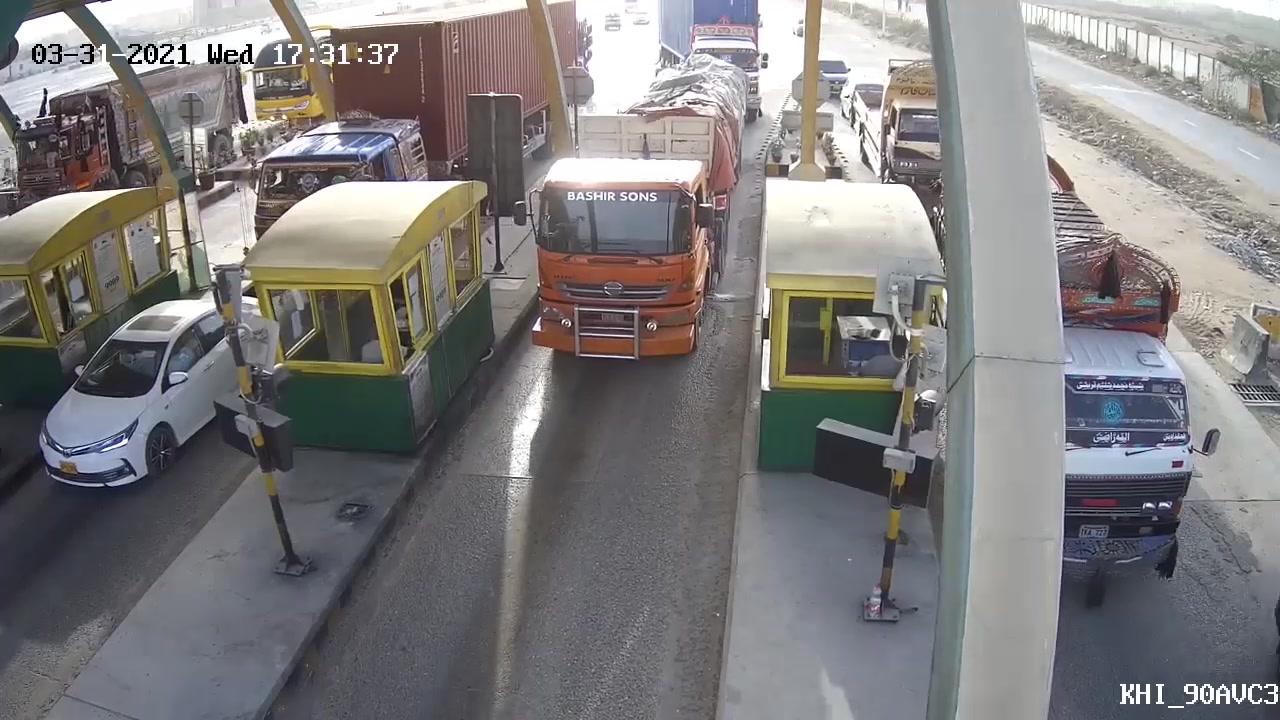F5: (514, 101, 733, 391)
